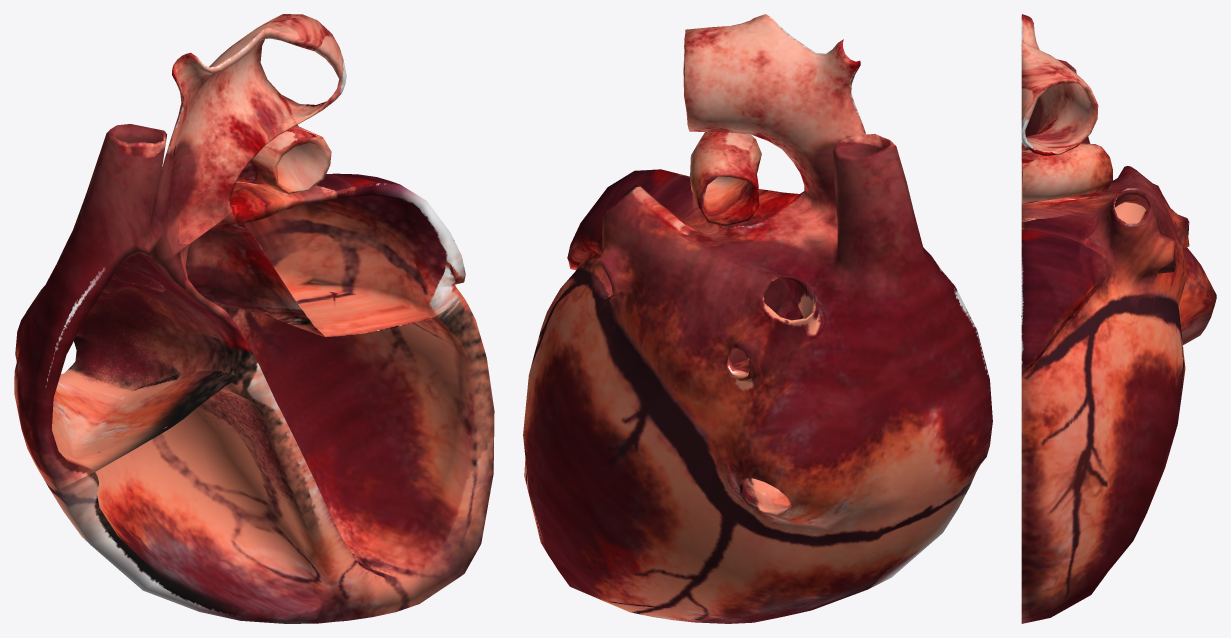
File: HalfHeart.FBX
3 renders of one model, left to right at view 1: azimuth 30°, elevation 25°; view 2: azimuth 150°, elevation 25°; view 3: azimuth 270°, elevation 25°, orthographic. The views are drawn at different scales.
Parts seen in each view (by area): view 1: HalfHeart; view 2: HalfHeart; view 3: HalfHeart.
Part boxes in pixels (box(x1,y1,x2,y2)): HalfHeart: box(14, 14, 494, 623); HalfHeart: box(523, 14, 992, 623); HalfHeart: box(1021, 14, 1216, 623).
Bounding box in the file's own units: 6.69 × 8.7 × 2.96.
